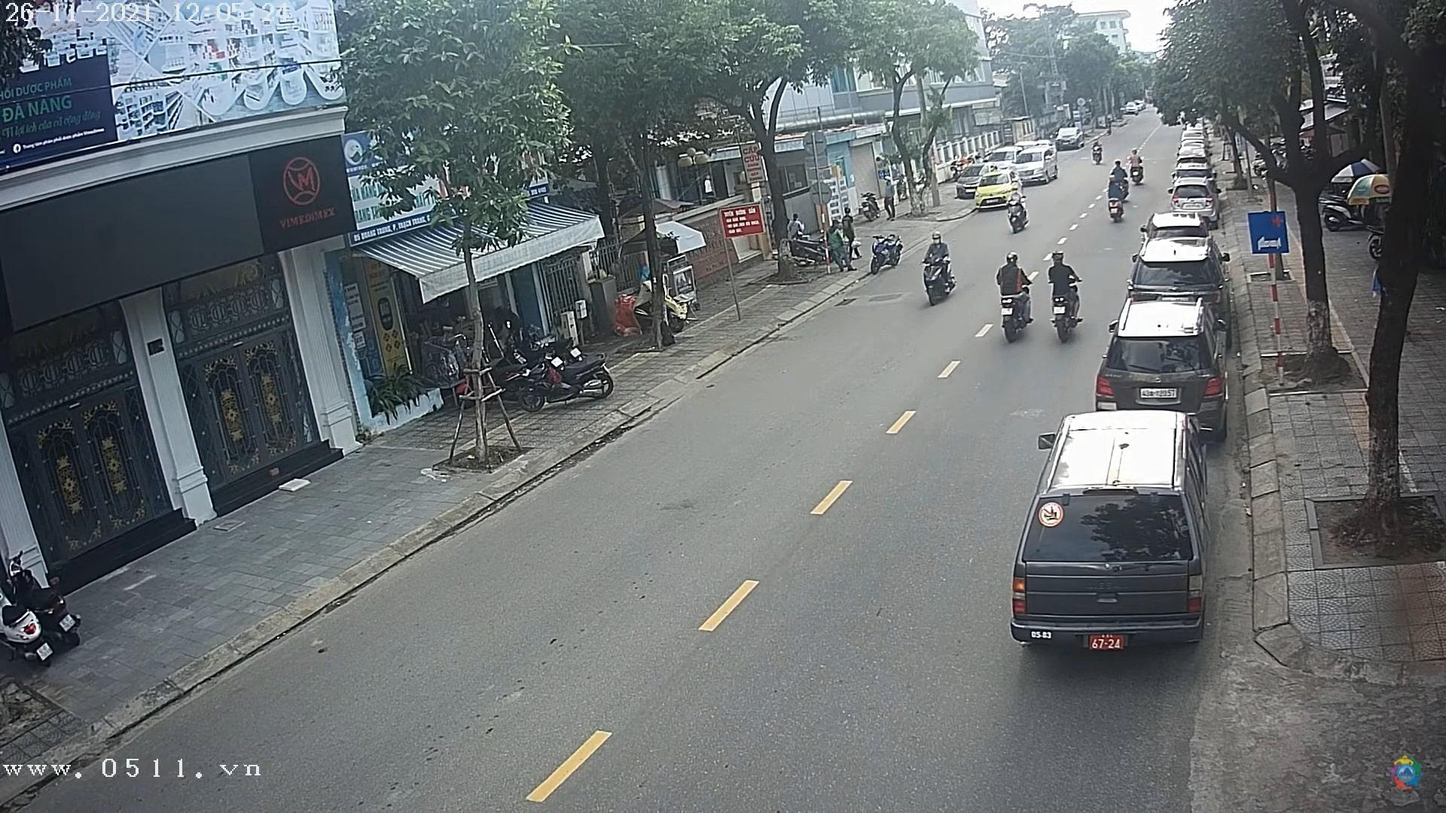bus: (955, 161, 1021, 207)
car: (1011, 413, 1203, 652), (1097, 300, 1225, 442), (1128, 238, 1229, 302), (1144, 211, 1209, 242), (1170, 182, 1217, 214), (1170, 165, 1214, 188), (1057, 125, 1085, 149)
motorbike: (921, 249, 957, 309), (1045, 285, 1082, 342), (1002, 290, 1034, 336)
